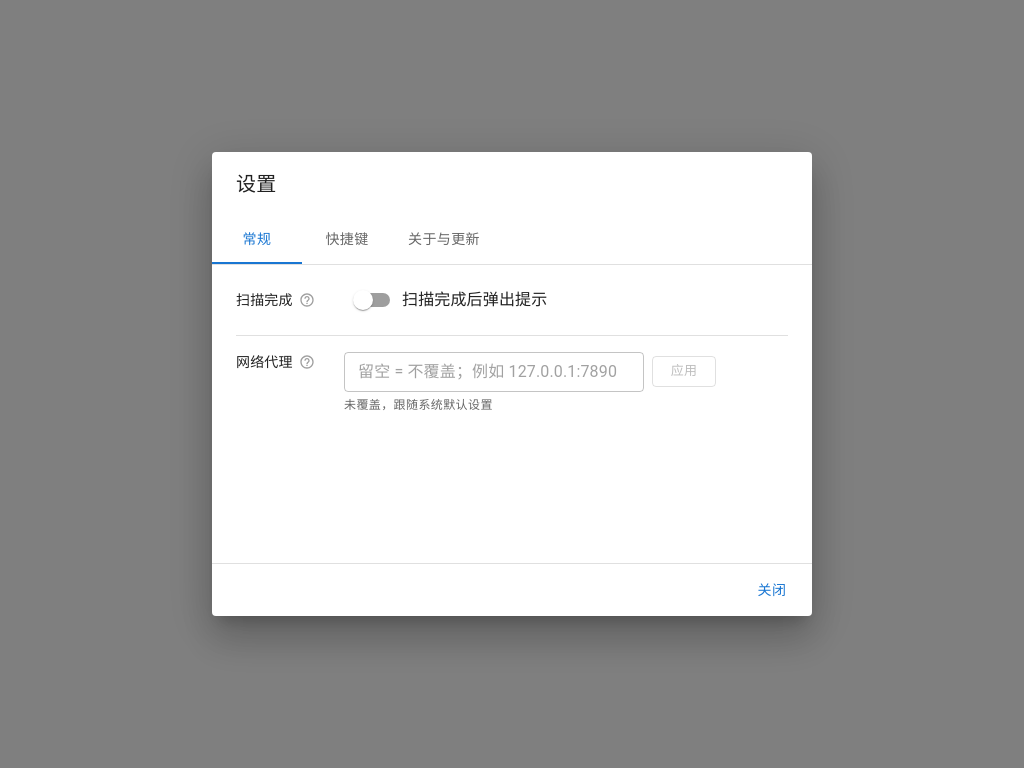
Scenario: 网络代理设置 › 不该发生：带账号密码仍给应用，或不说明原因就静默存空值
Type "http://u:p@127.0.0.1:7890" into the field named "网络代理地址".
click(494, 372); type("http://u:p@127.0.0.1:7890")  # box x1=344 y1=352 x2=644 y2=392
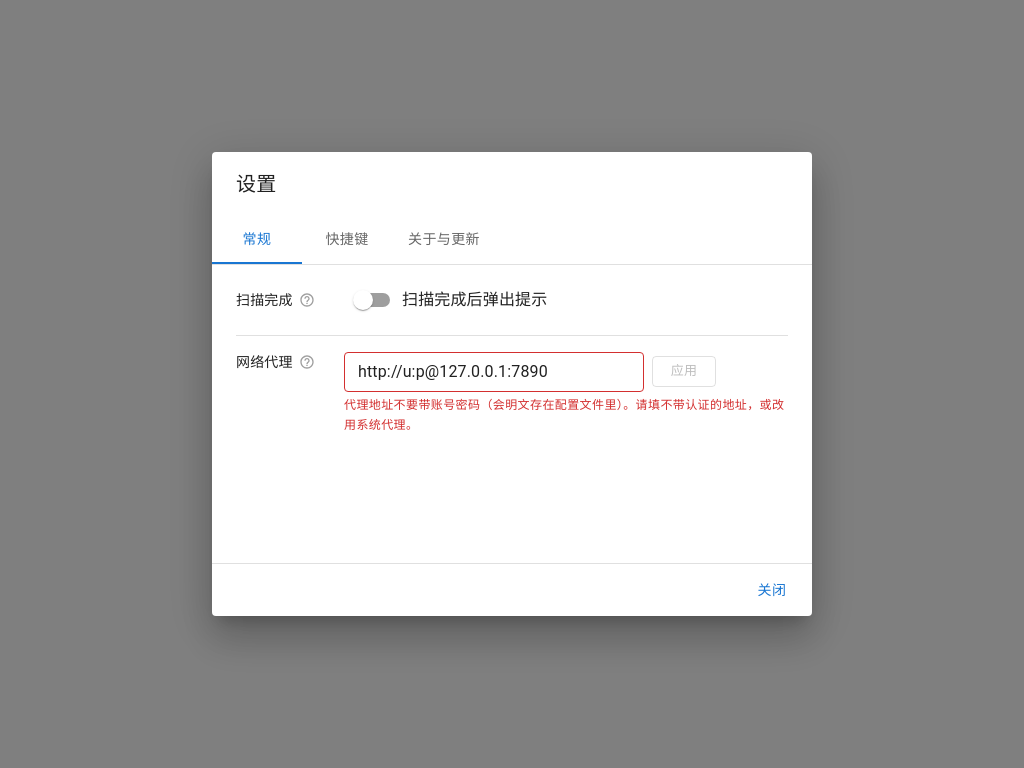
Expected: the button "应用" is disabled, x1=652 y1=356 x2=716 y2=387
Now the text with test id "proxy-hint" shows "账号密码", box x1=344 y1=398 x2=784 y2=432
